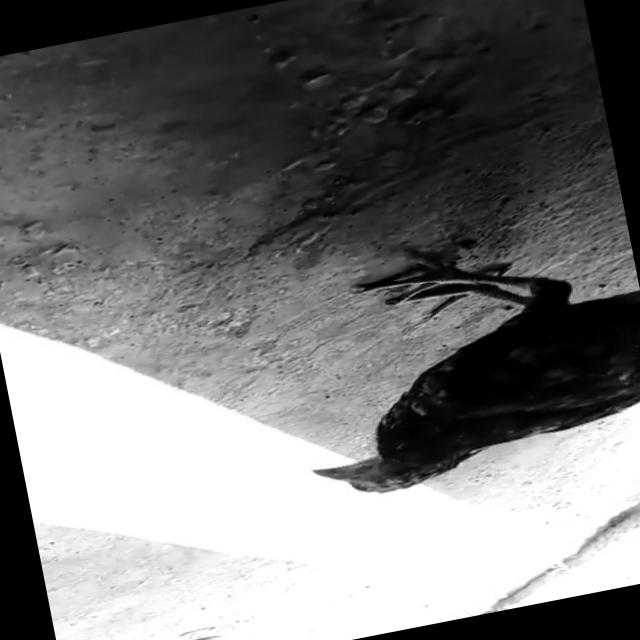newcastle: (272, 194, 640, 531)
